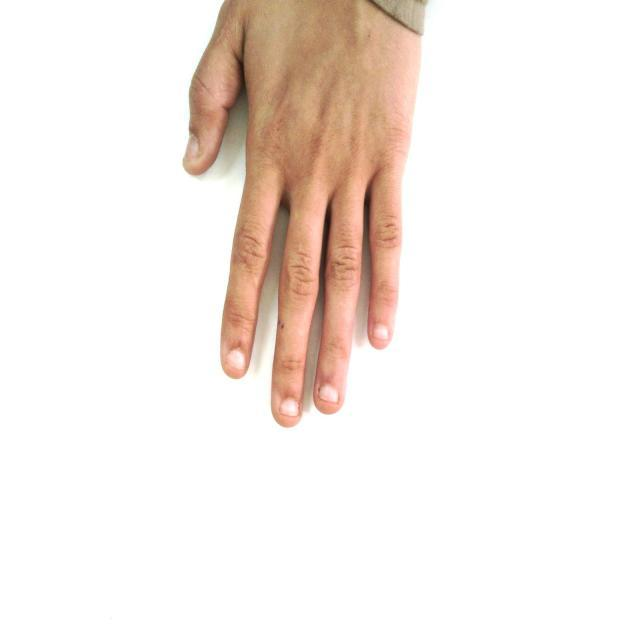Fingernail: (185, 135, 199, 161), (227, 351, 245, 370), (320, 386, 338, 402), (281, 399, 298, 415), (373, 325, 388, 340)
